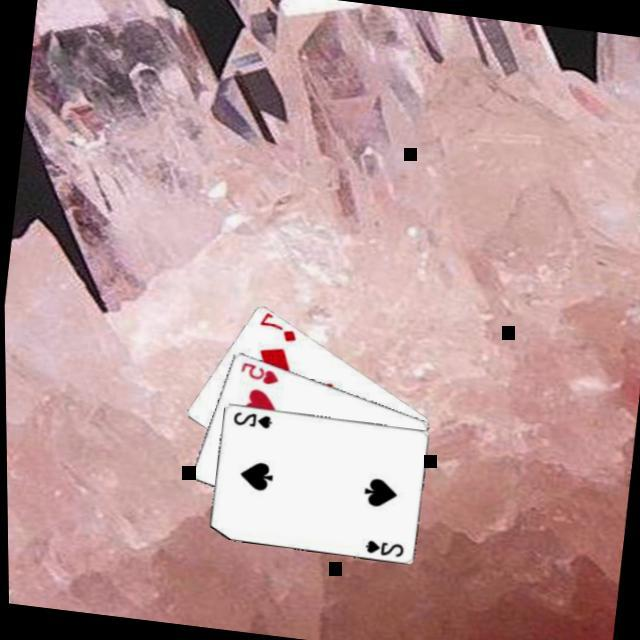2S: (229, 407, 275, 430), (361, 535, 407, 558)
5H: (236, 358, 283, 387)
7D: (255, 309, 302, 345)
